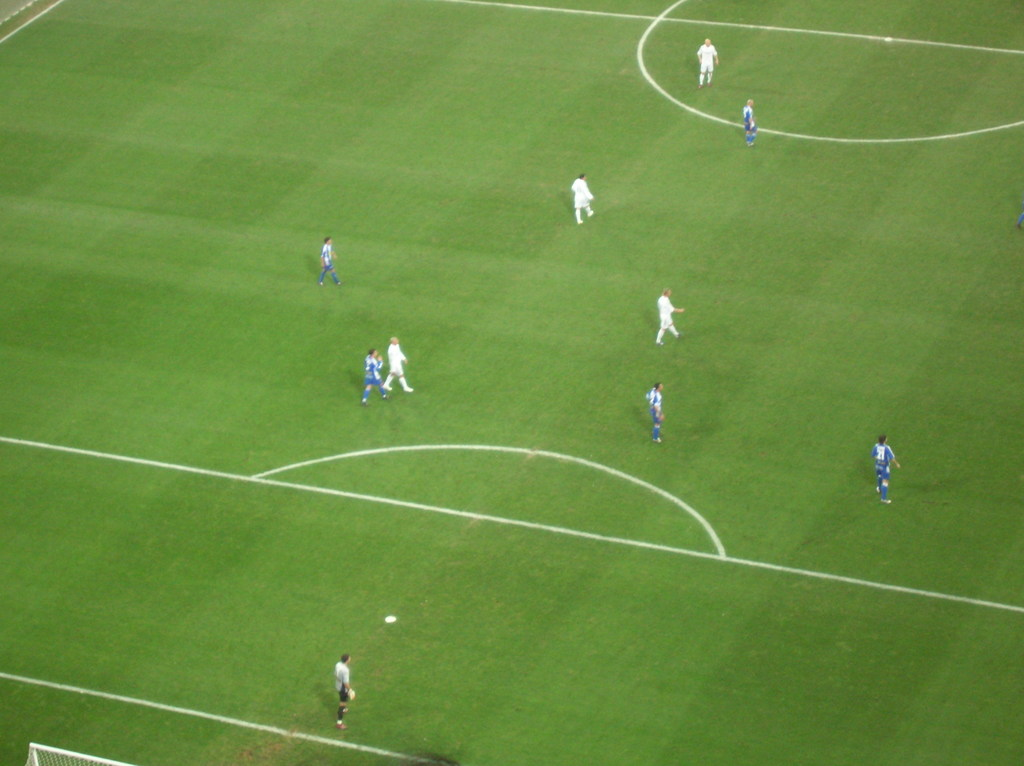Person: (868, 433, 900, 503), (333, 654, 357, 730), (359, 349, 391, 406), (384, 337, 416, 392), (654, 288, 684, 344), (569, 173, 596, 225), (316, 236, 343, 285), (645, 381, 665, 441), (698, 36, 720, 87), (740, 98, 757, 145)
